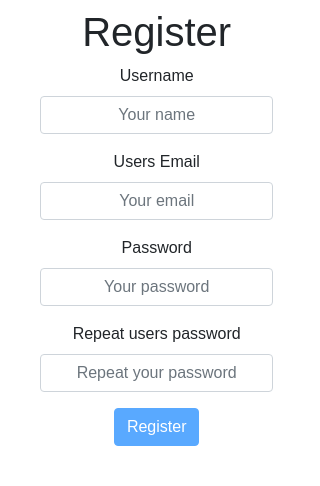
Test: RegistrationPage › Interactions › hides validation error when user changes the content of username
The width and height of the screenshot is (320, 486).
Type "my-name" into the field with placeholder "Your name" at (157, 115), box [40,96,273,134]
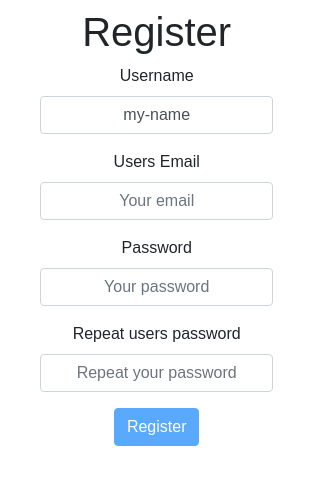
Type "my-email" into the field with placeholder "Your email" at (157, 201), box [40,182,273,220]
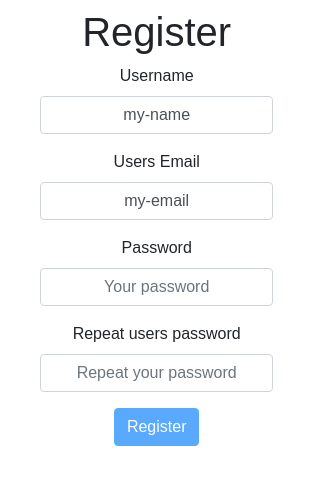
Type "P4ssword" into the password field with placeholder "Your password" at (157, 287), box [40,268,273,306]
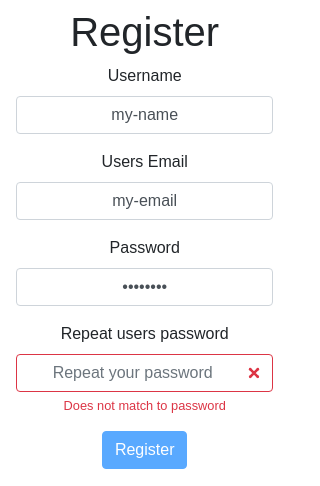
Type "P4ssword" into the password field with placeholder "Repeat your password" at (145, 373), box [16,354,273,392]
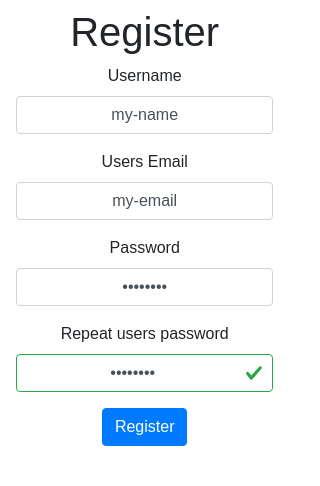
Click the button "Register" at (145, 427), box [102,408,188,446]
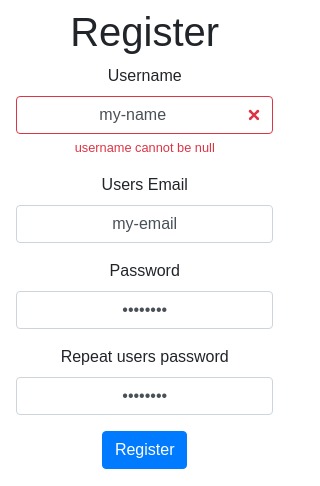
Replace the text in the 1st field with placeholder "Your name" with "name updated" at (145, 115), box [16,96,273,134]
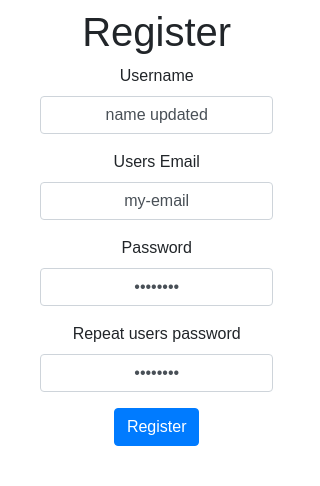
Result: the text "cannot be null" is gone
